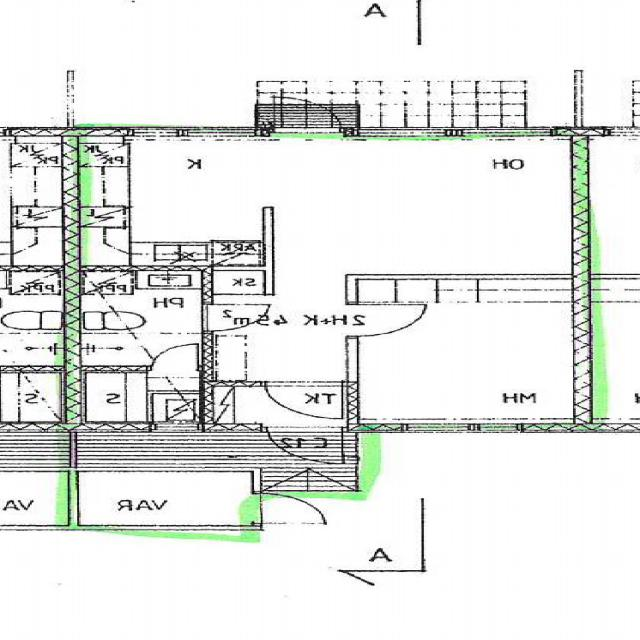door: (264, 383, 342, 424), (267, 428, 342, 468), (273, 95, 340, 134), (347, 306, 424, 336), (252, 495, 324, 524), (199, 305, 267, 331), (149, 345, 196, 373)
